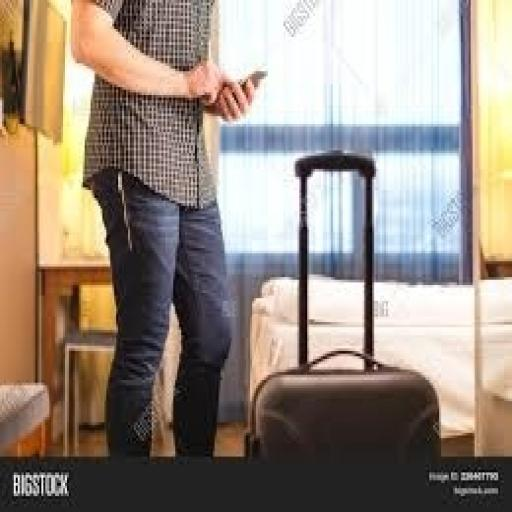texting: (67, 0, 264, 459)
